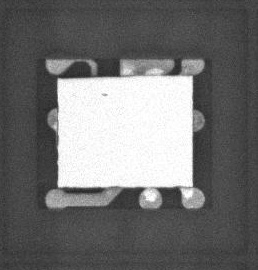DIE_INK: (97, 96, 102, 100)
